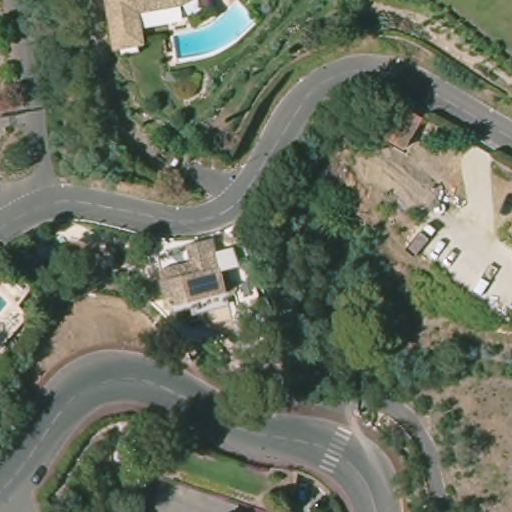pool: (172, 2, 257, 64), (1, 290, 13, 321)
